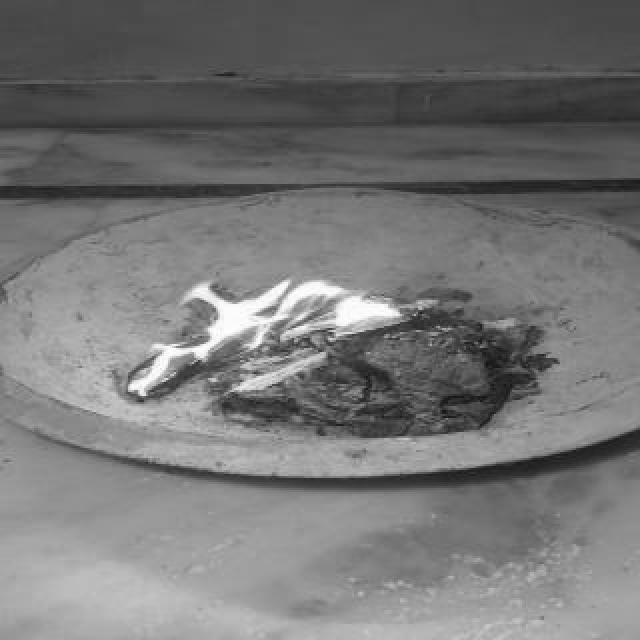Fire: (110, 268, 402, 410)
